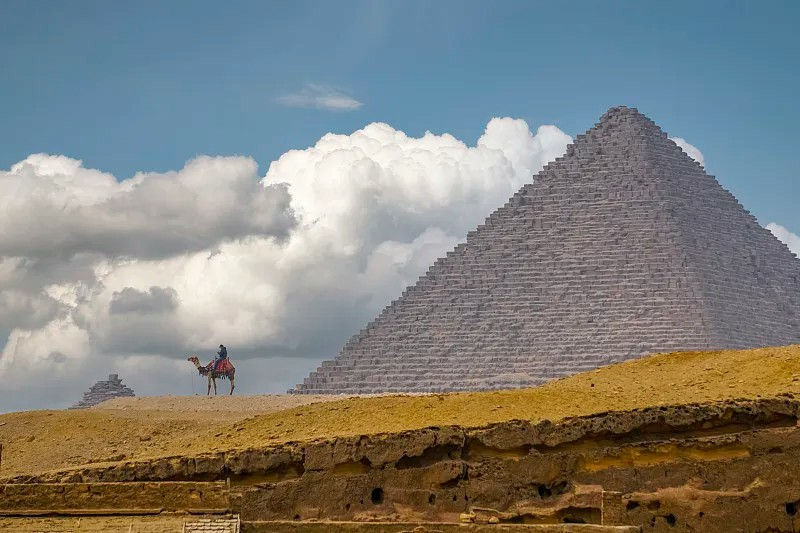Pyramid: (286, 107, 800, 393)
